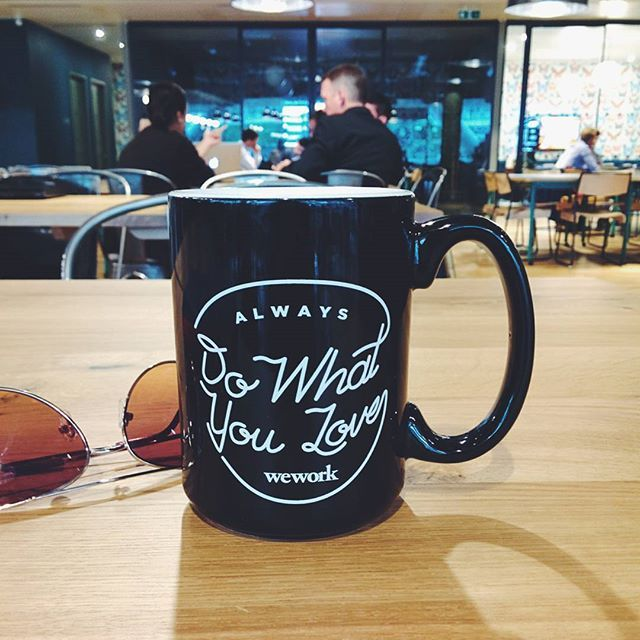wework: (261, 462, 341, 485)
